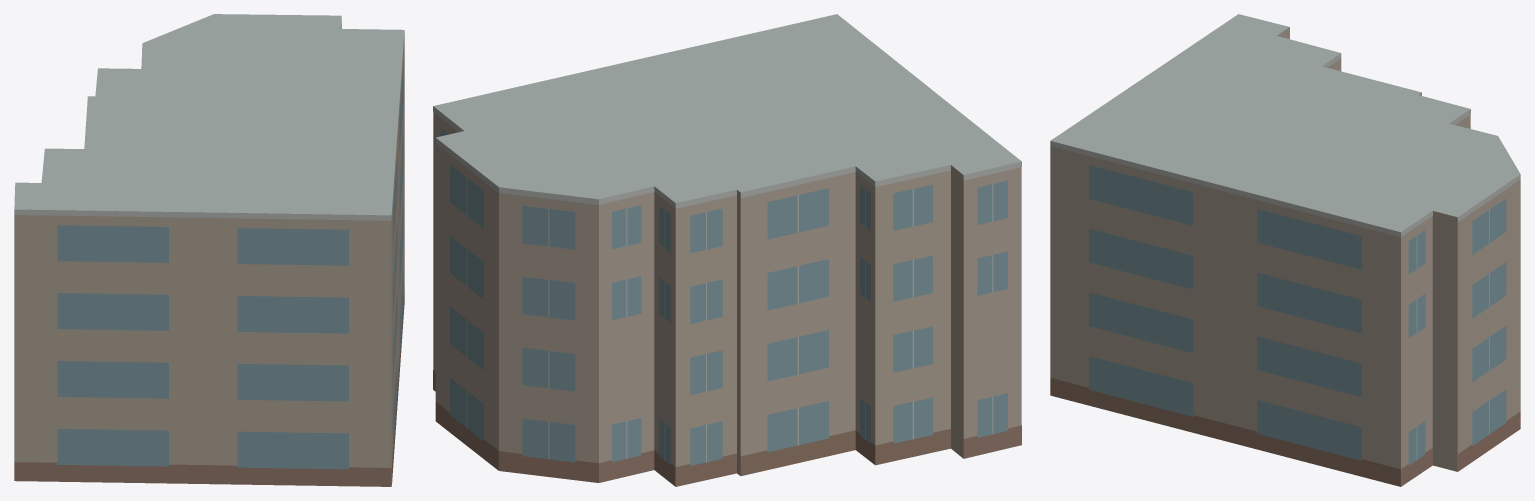
Rendered from survey-upis-32495335.glb.
The picture shows the model from 3 angles, left to right: view 1: azimuth 30°, elevation 25°; view 2: azimuth 150°, elevation 25°; view 3: azimuth 270°, elevation 25°; orthographic projection. The views are drawn at different scales.
Visible parts, largest first — view 1: survey-upis-32495335.tmp; view 2: survey-upis-32495335.tmp; view 3: survey-upis-32495335.tmp.
Boxes of the visible parts, bbox=[...] form: survey-upis-32495335.tmp: bbox=[14, 14, 404, 486]; survey-upis-32495335.tmp: bbox=[433, 14, 1021, 486]; survey-upis-32495335.tmp: bbox=[1050, 14, 1520, 486].
Bounding box in the file's own units: 22.43 × 12.2 × 20.43.
